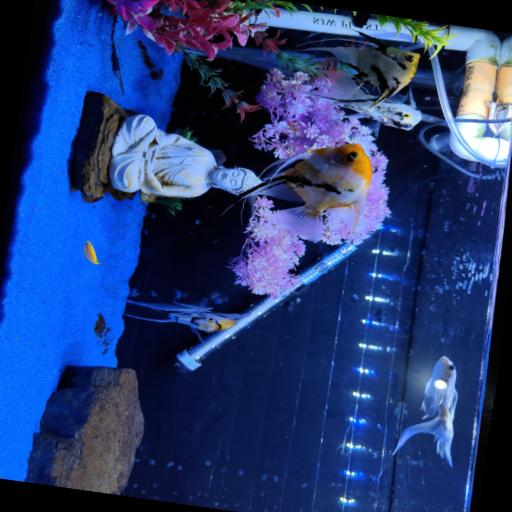Fish: (240, 143, 371, 241), (304, 32, 419, 106), (392, 355, 457, 465), (105, 288, 240, 339), (299, 88, 421, 129), (80, 240, 104, 265)
